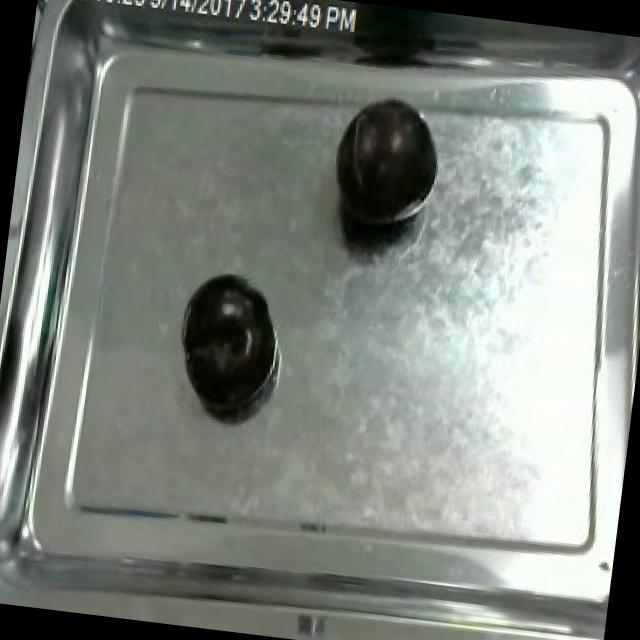Fruit: (320, 88, 450, 246), (170, 271, 280, 415)
